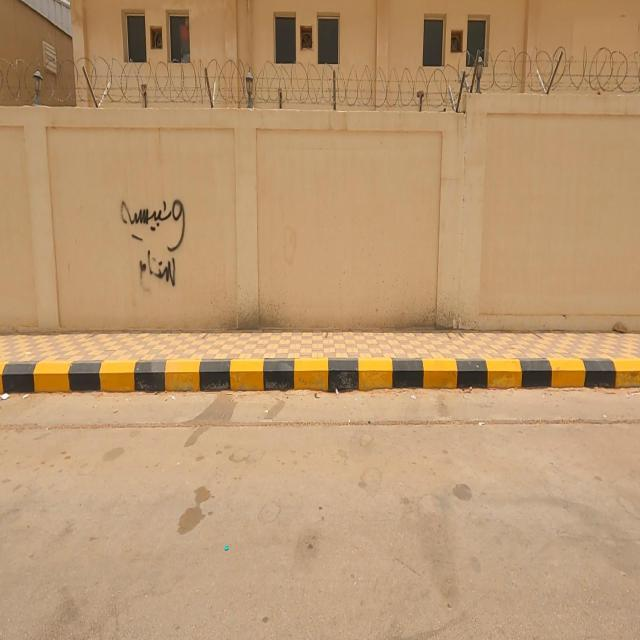Graffiti: (121, 197, 186, 288)
